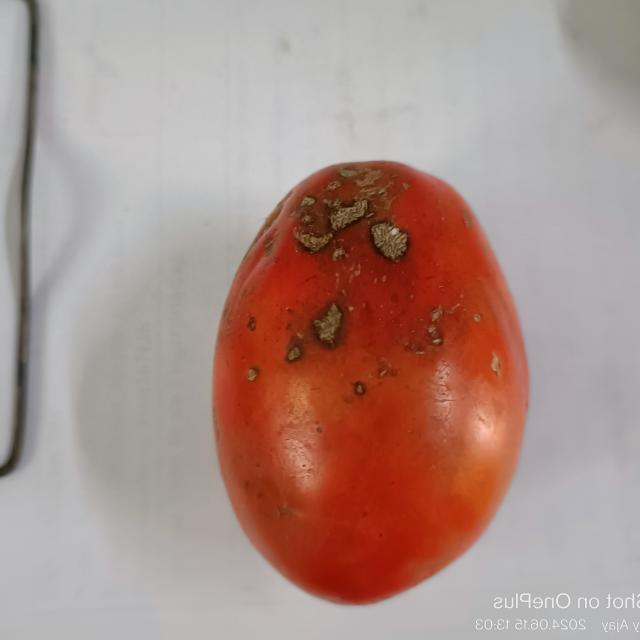Bacterial_Spot: (369, 215, 415, 264), (310, 300, 346, 346), (323, 198, 365, 228), (339, 165, 382, 188), (295, 230, 333, 250), (426, 309, 444, 345), (284, 343, 304, 361), (351, 378, 368, 396), (246, 366, 256, 380), (476, 314, 482, 322)
